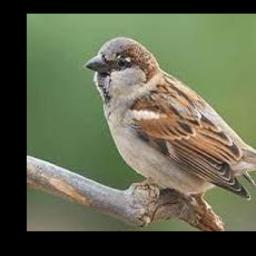Sparrow: (85, 37, 256, 201)
